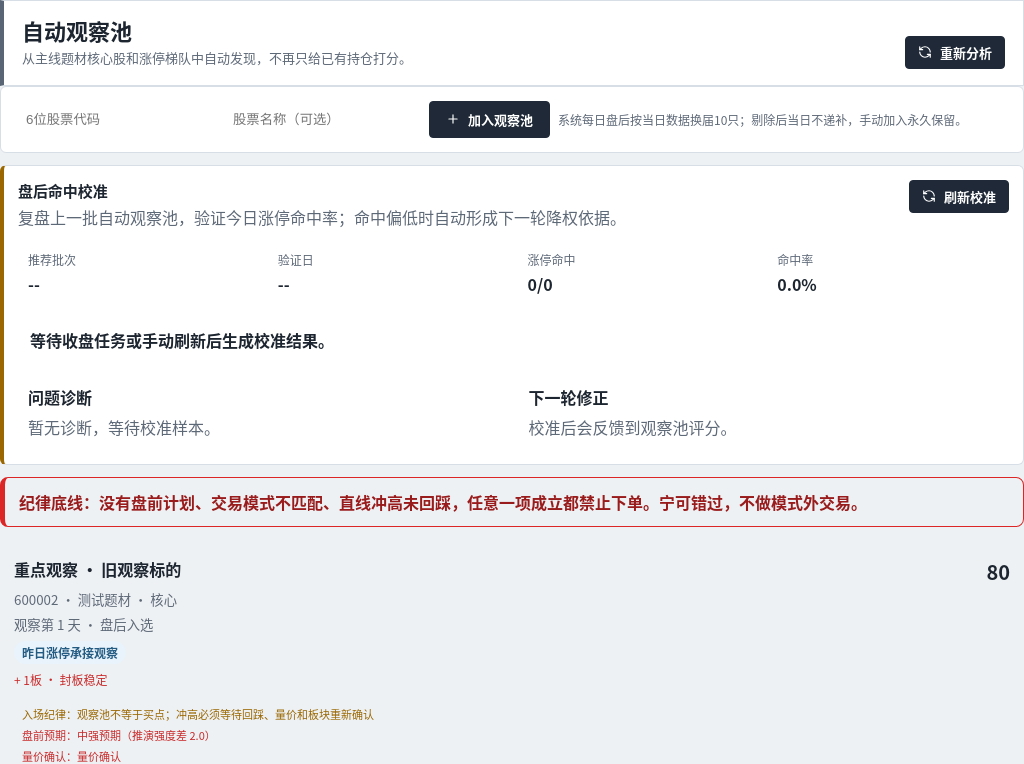
Test: 自动观察池显式刷新 › 刷新失败保留旧快照，且不派发刷新成功事件
Expected: the text "重点观察 · 旧观察标的" is shown, [14,557,181,586]
Click the button "重新分析".
click(955, 52)  # box [905,36,1005,68]
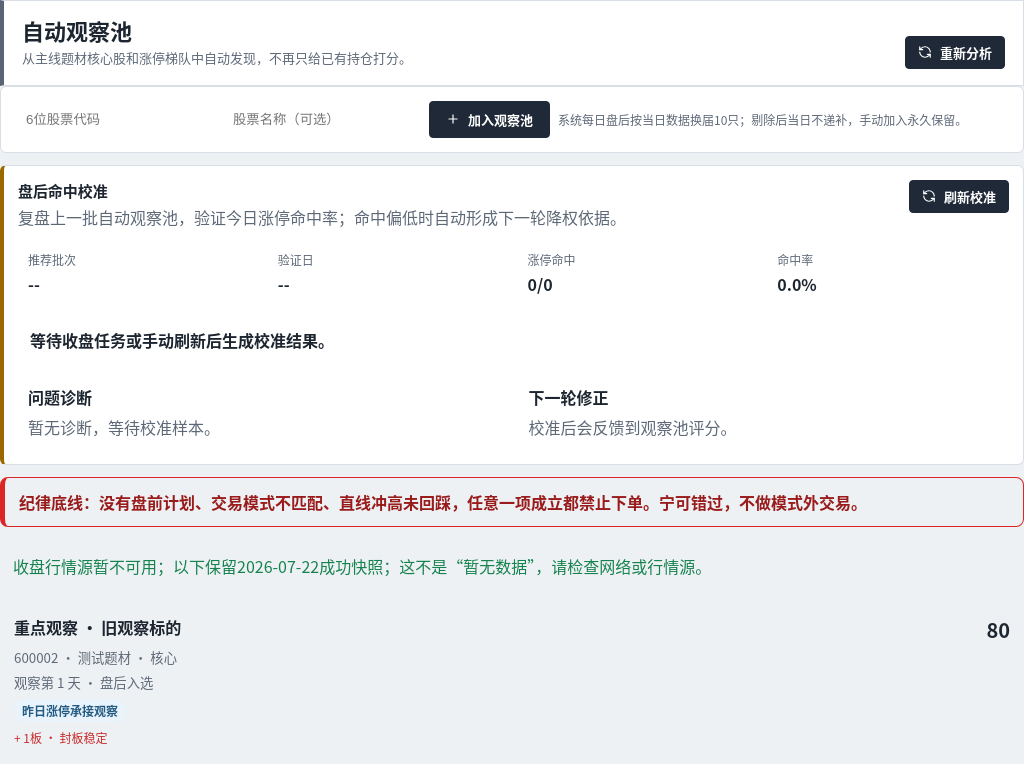
Expected: the text "重点观察 · 旧观察标的" is shown, [14,615,181,644]
Result: the text "收盘行情源暂不可用；以下保留2026-07-22成功快照；这不是“暂无数据”，请检查网络或行情源。" is shown at [13,554,711,578]
